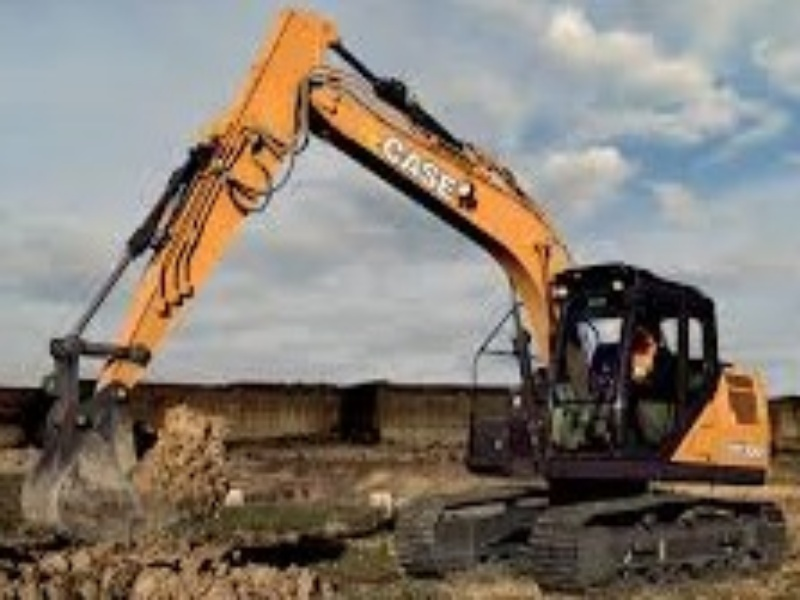wajueji: (369, 207, 793, 600)
